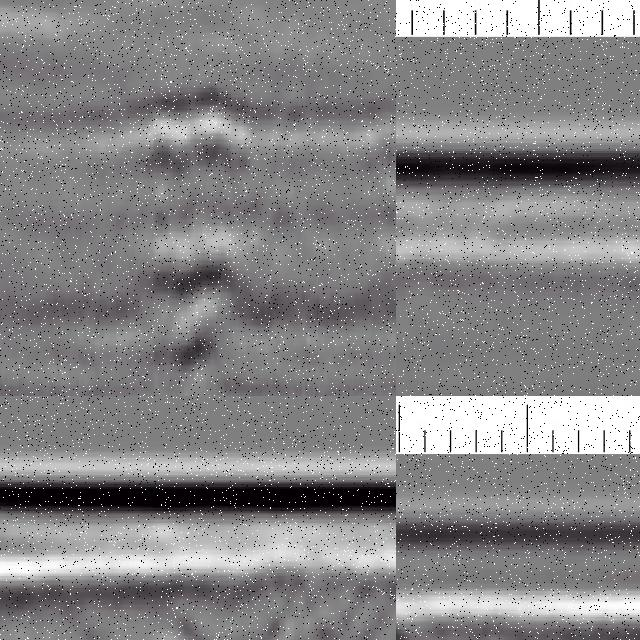loose: (132, 85, 266, 383), (136, 582, 397, 640)
